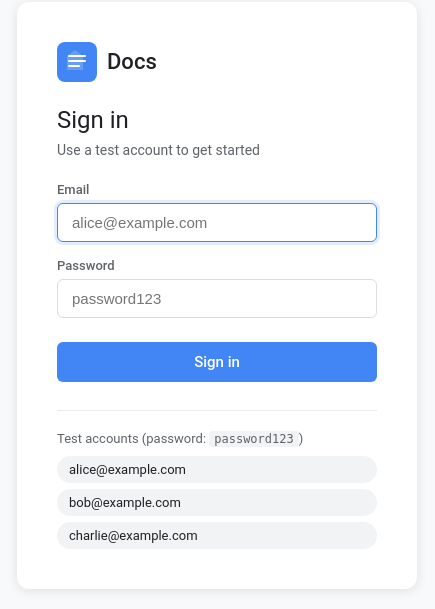
Test: Authentication › quick-fill chips populate the email field
What coordinates should you click on to do the following:
click the button "bob@example.com"
I would click on:
 (125, 502)
Its box is [57, 489, 377, 516].
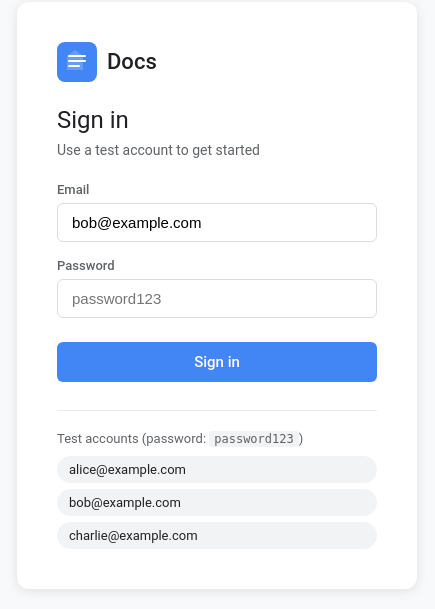
Result: the field with id "email" holds "bob@example.com" at [57, 203, 377, 242]
